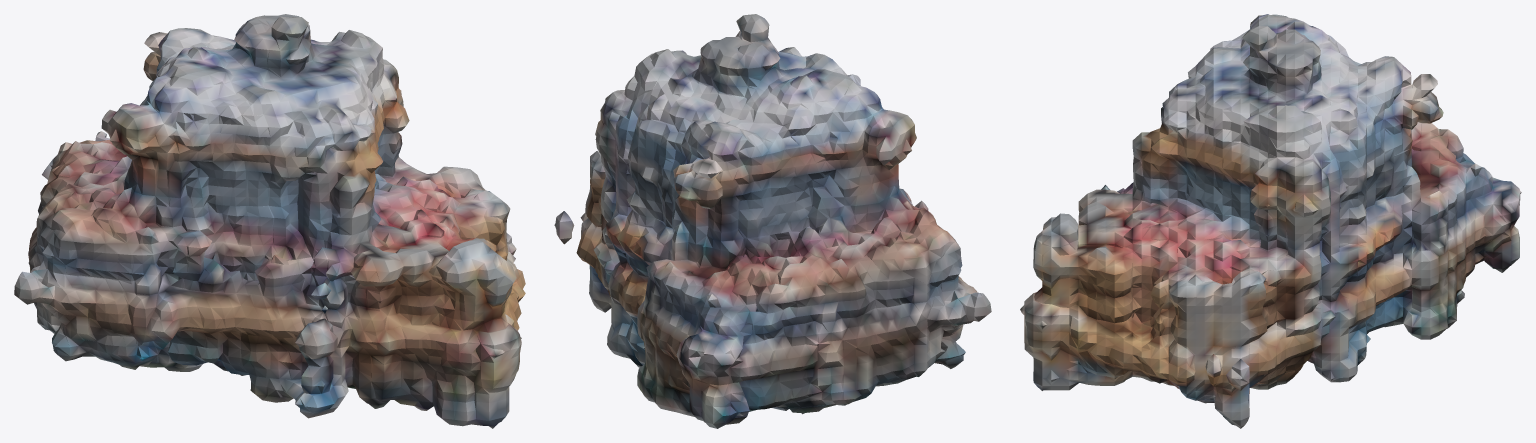
File: three_view_refined_Godot_Yup.glb
3 renders of one model, left to right at view 1: azimuth 30°, elevation 25°; view 2: azimuth 150°, elevation 25°; view 3: azimuth 270°, elevation 25°, orthographic. The views are drawn at different scales.
Parts seen in each view (by area): view 1: world; view 2: world; view 3: world.
Part boxes in pixels (<box>): world: <box>14,14,525,428</box>; world: <box>554,14,991,428</box>; world: <box>1020,14,1521,428</box>.
Size of the model in its own units: 1.03 by 0.7283 by 1.02.
